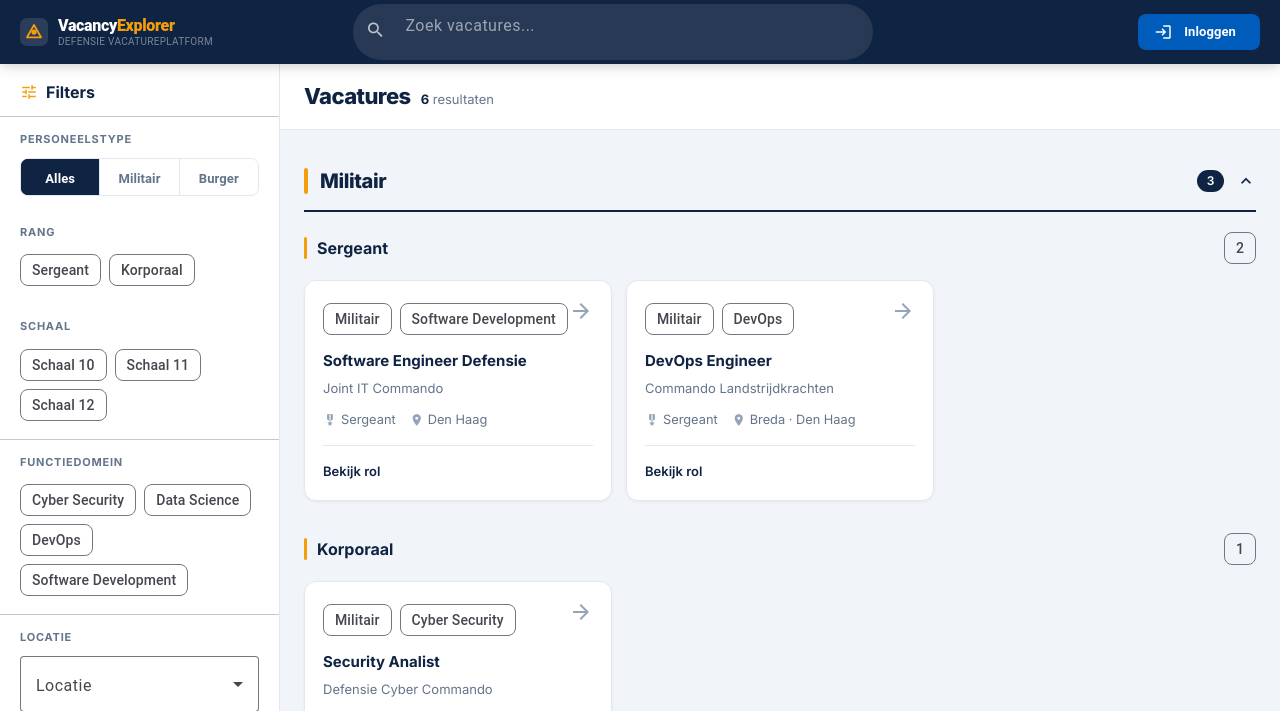
Vacancy overview – search › recovers after a no-match search is corrected
Check: the element with test id "vacancy-card" that starts with "Militair" is shown, box [304,280,612,501]
Type "zzz-nonexistent-query" into the search field with test id "search-input" at (631, 26), box [405,14,857,38]
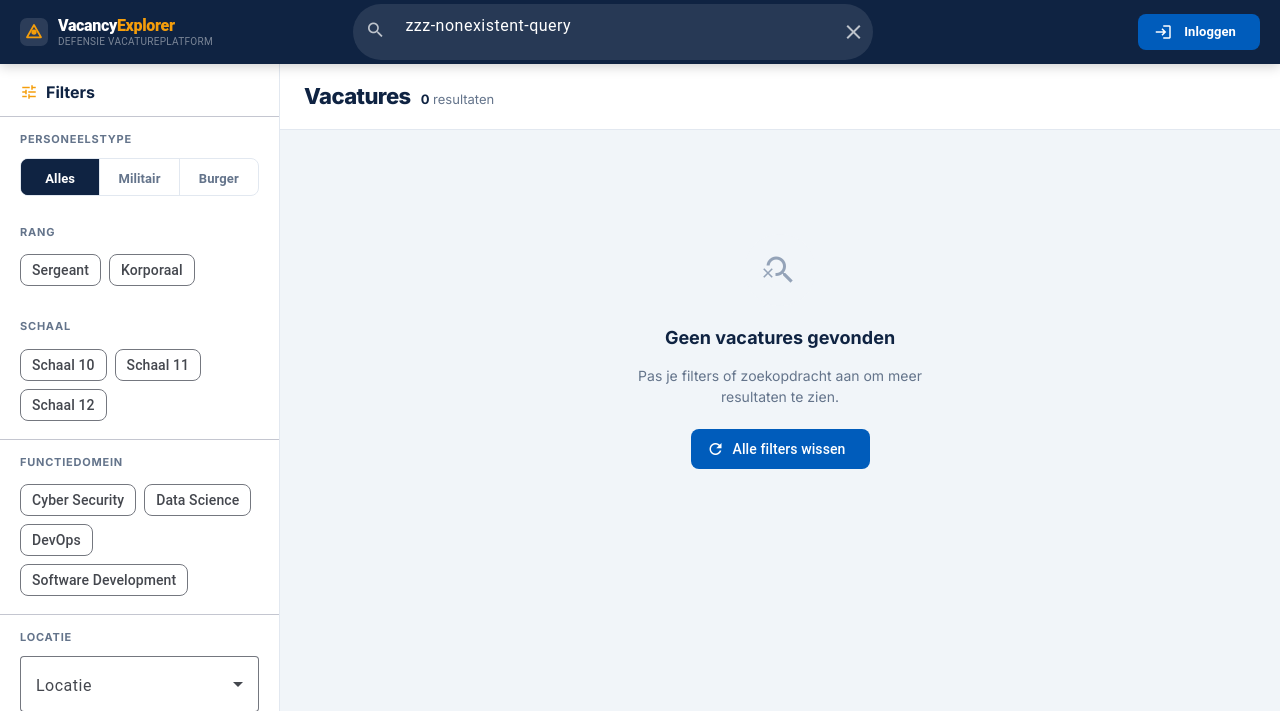
Check: the message with test id "empty-state" is shown, box [638,234,922,469]
Replace the text in the search field with test id "search-input" with "Security" at (617, 26), box [405,14,829,38]
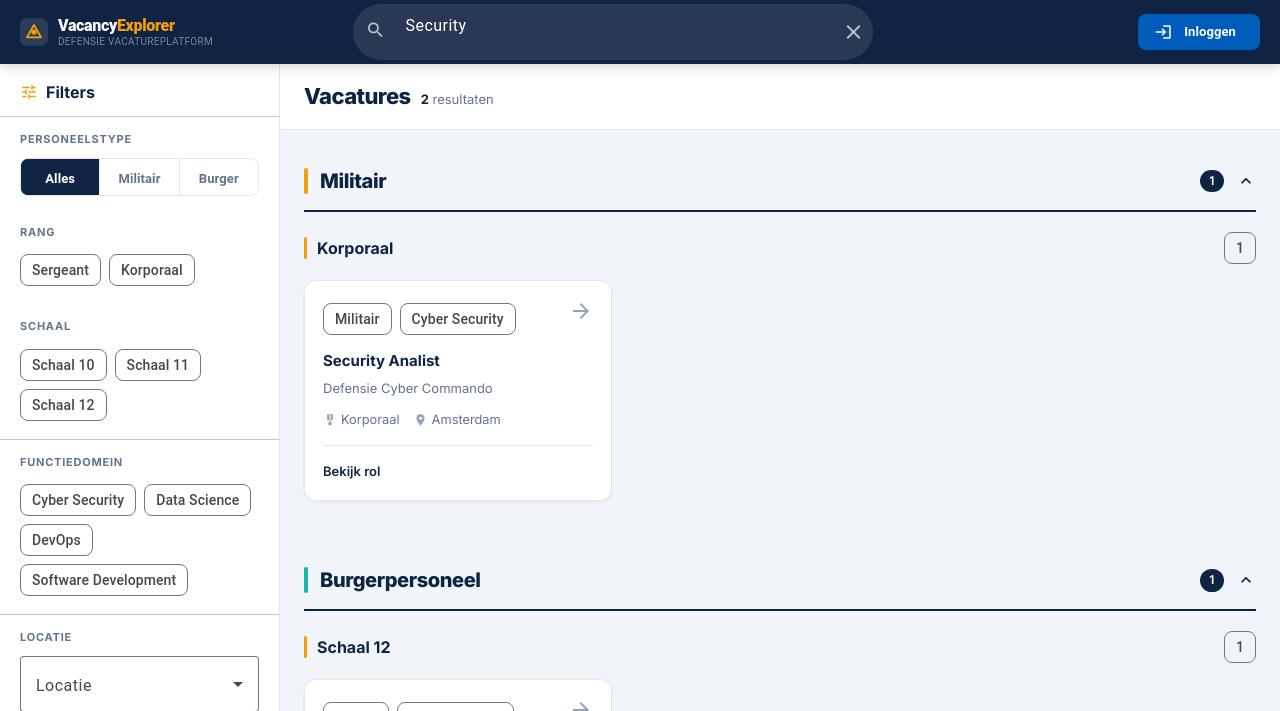
Check: the text with test id "results-count-value" reads "2", box [421,91,429,107]
